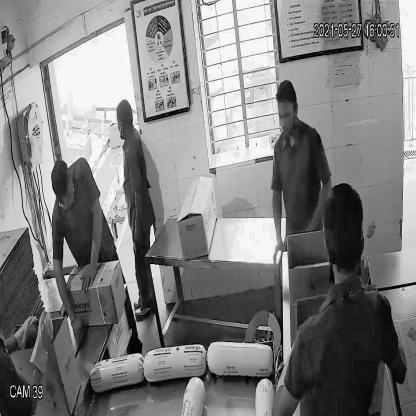no_goggles: (275, 106, 296, 124)
